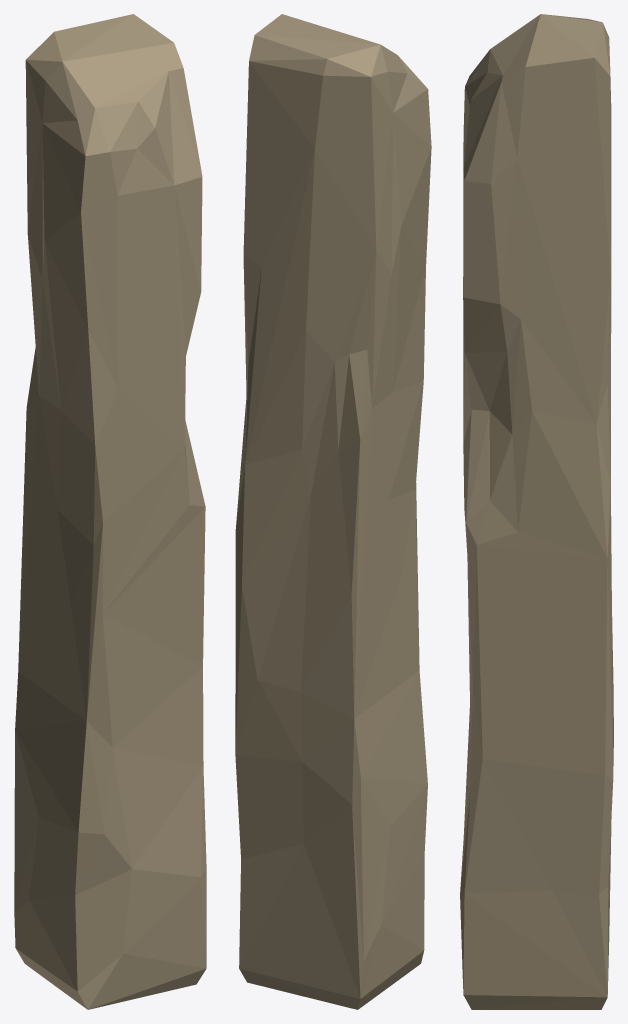
Rendered from SM_pillar_large_clay_02.fbx.
3 renders of one model, left to right at view 1: azimuth 30°, elevation 25°; view 2: azimuth 150°, elevation 25°; view 3: azimuth 270°, elevation 25°, orthographic. The views are drawn at different scales.
Visible parts, largest first — view 1: Object175; view 2: Object175; view 3: Object175.
Part boxes in pixels (x1,y1,x2,y2): Object175: (14, 14, 206, 1009); Object175: (235, 14, 431, 1009); Object175: (460, 14, 613, 1009).
Bounding box in the file's own units: 26.76 × 26.8 × 183.
